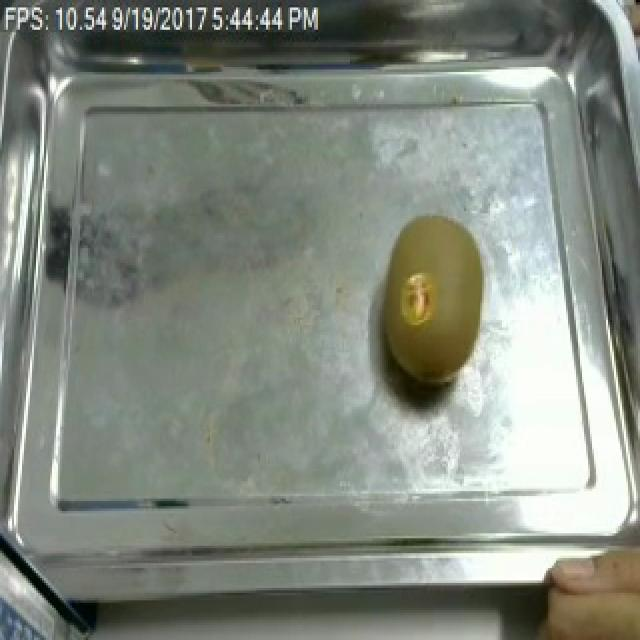Fruit: (368, 206, 498, 399), (516, 531, 640, 640)
